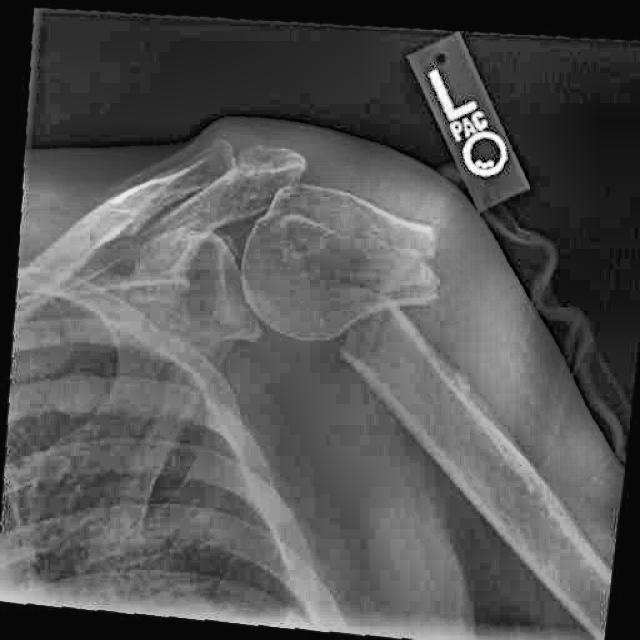shoulder fracture: (299, 179, 477, 451), (107, 146, 210, 250)
